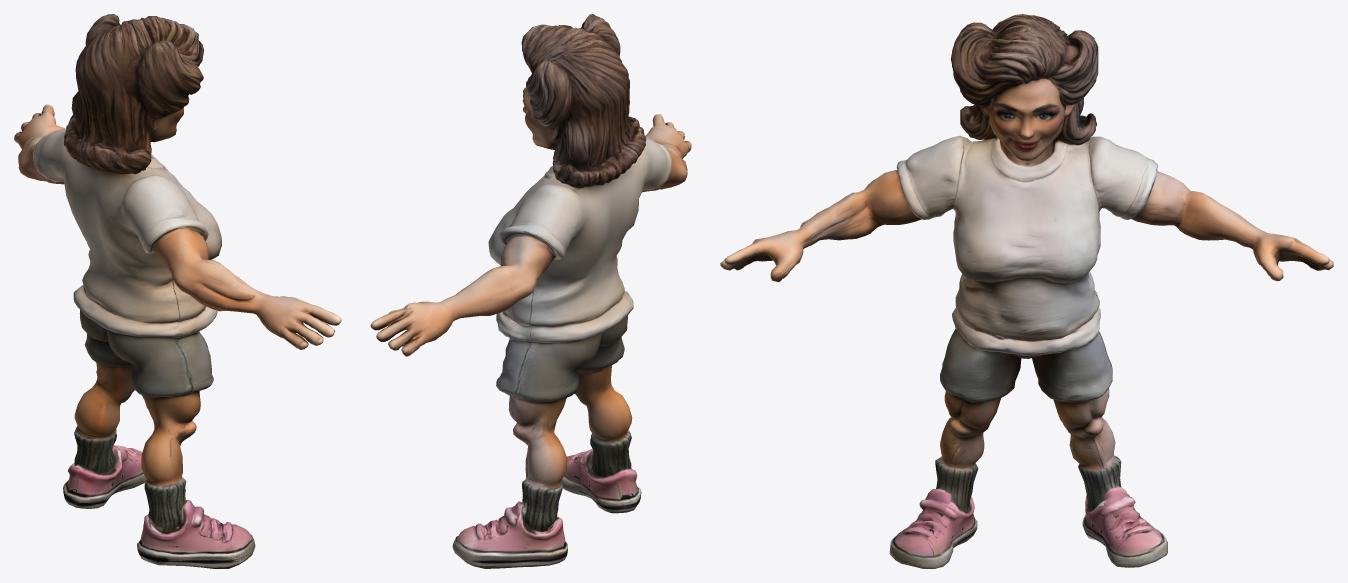
3 views of the same model, side by side, from view 1: azimuth 30°, elevation 25°; view 2: azimuth 150°, elevation 25°; view 3: azimuth 270°, elevation 25° (orthographic). The views are drawn at different scales.
Visible parts, largest first — view 1: tripo_node_c9b4c8dd; view 2: tripo_node_c9b4c8dd; view 3: tripo_node_c9b4c8dd.
Boxes of the visible parts, x1,y1,x2,y2 form: tripo_node_c9b4c8dd: (14,14,341,568); tripo_node_c9b4c8dd: (370,14,691,568); tripo_node_c9b4c8dd: (720,14,1333,568).
Bounding box in the file's own units: 24.85 × 94.32 × 100.
1 material, 1 textured.
